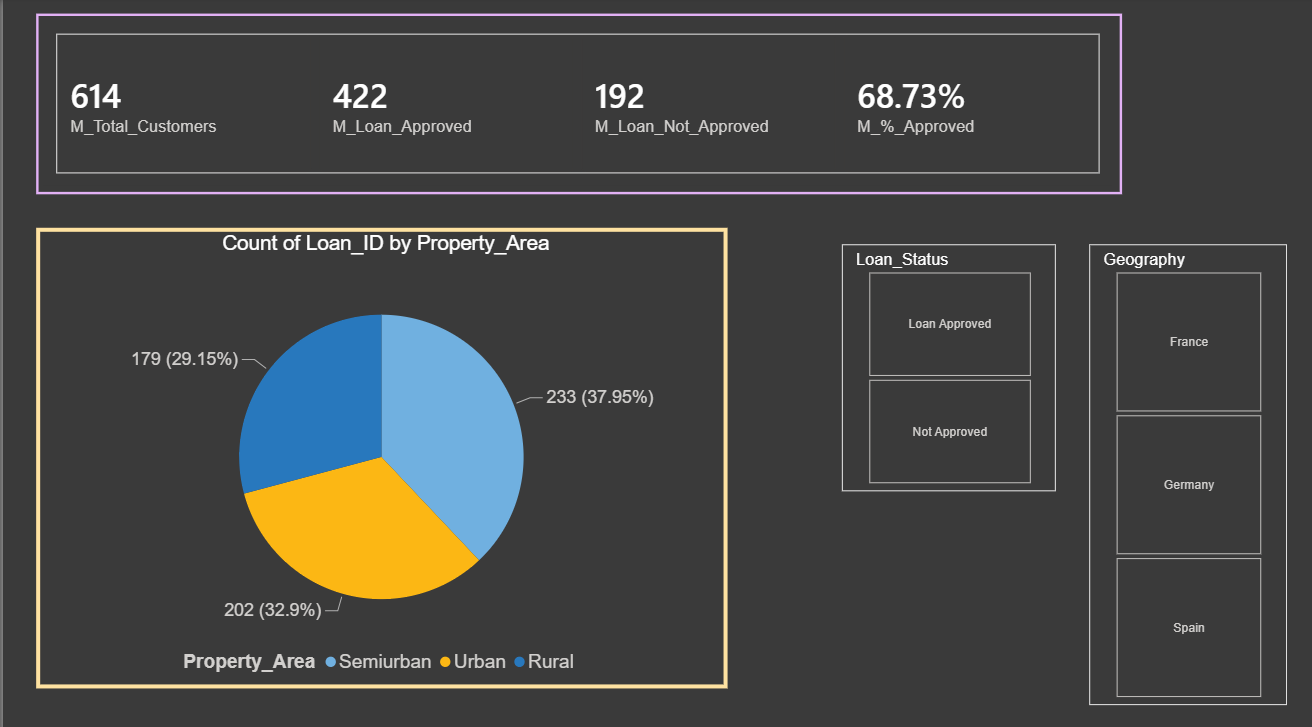

Layout of this report page (visuals, bound fields, positions):
{"tool":"powerbi","page":{"name":"Geographic & Property Breakdown","canvas":[1280,720],"ordinal":2},"visuals":[{"type":"pieChart","fields":{"Category":["LoanData.Property_Area"],"Y":["CountNonNull(LoanData.Loan_ID)"]},"box":[32,224,672,448],"z":0},{"type":"slicer","fields":{"Values":["LoanData.Geography"]},"box":[1056,240,192,448],"z":1},{"type":"slicer","fields":{"Values":["LoanData.Loan_Status"]},"box":[816,240,208,240],"z":2},{"type":"cardVisual","fields":{"Data":["LoanData.M_Total_Customers","LoanData.M_Loan_Approved","LoanData.M_Loan_Not_Approved","LoanData.M_%_Approved"]},"box":[32,16,1056,176],"z":3}]}

Visuals, with their boxes in screenshot pixels (x1, y1, x2, y2), scaled from the page's 1280x720 canvas onto the 1312x727 screenshot:
pieChart - LoanData.Property_Area x CountNonNull(LoanData.Loan_ID): bbox(33, 226, 722, 679)
slicer - LoanData.Geography: bbox(1082, 242, 1279, 695)
slicer - LoanData.Loan_Status: bbox(836, 242, 1050, 485)
cardVisual - LoanData.M_Total_Customers x LoanData.M_Loan_Approved: bbox(33, 16, 1115, 194)
